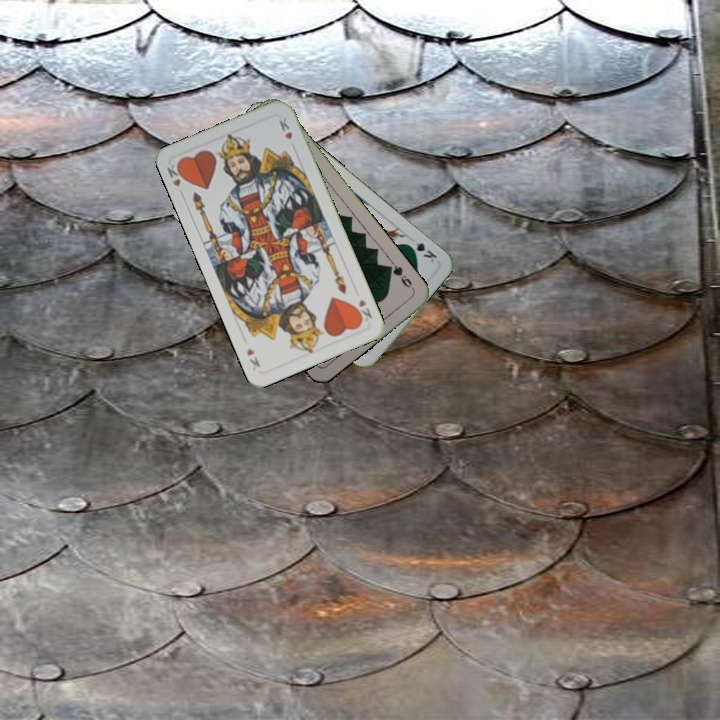G9: (384, 261, 417, 293)
GK: (403, 238, 440, 265)
HK: (163, 158, 188, 199), (351, 295, 375, 325)
